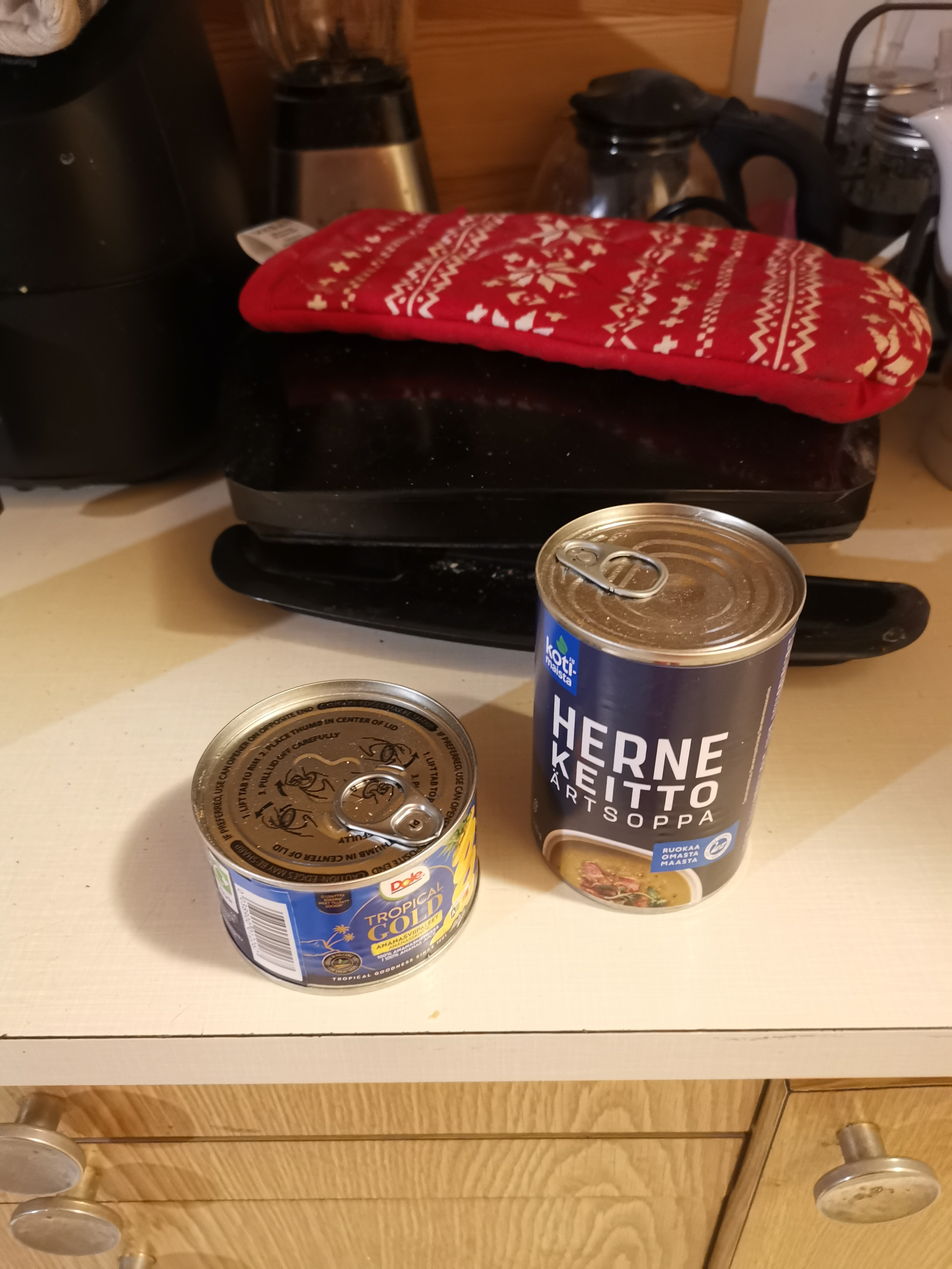Konservburk: (526, 500, 808, 914), (188, 676, 483, 993)
